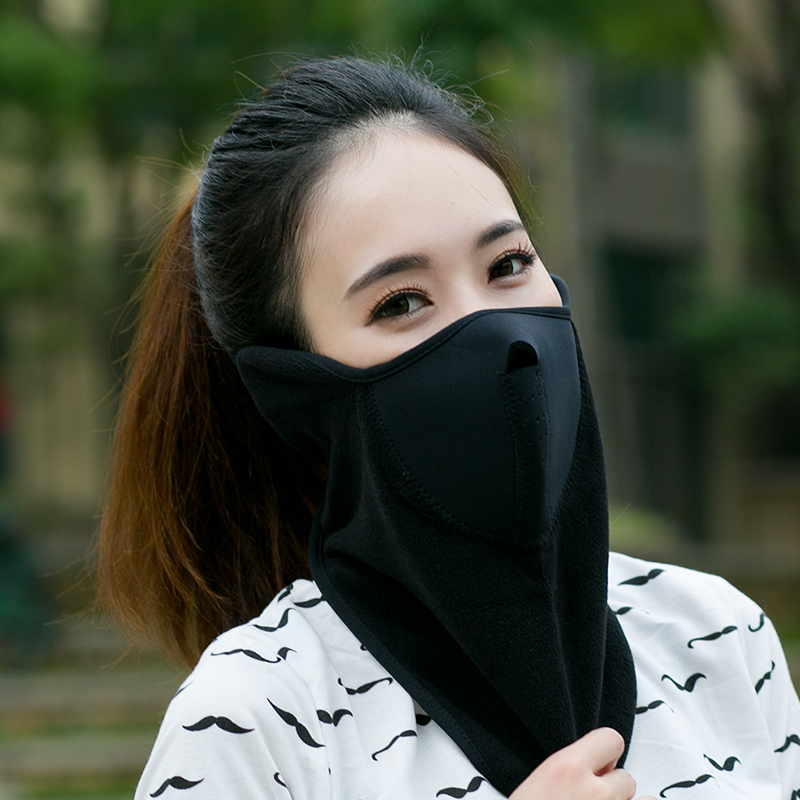face_mask: (300, 163, 580, 535)
